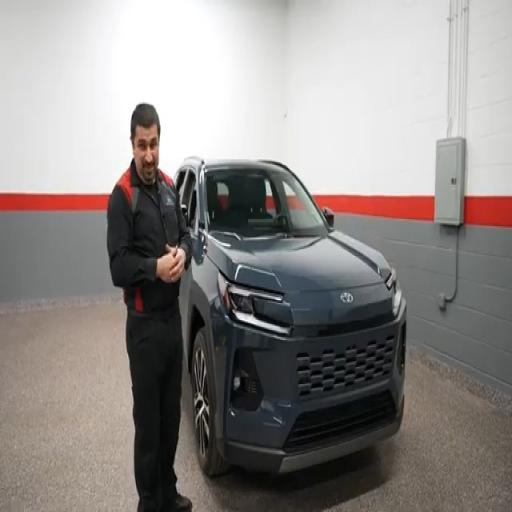bumper: (213, 301, 406, 473), (224, 399, 404, 473)
door: (180, 168, 197, 338)
emblem: (340, 292, 353, 302)
fog_light: (233, 376, 241, 391)
grille: (284, 392, 396, 452), (297, 335, 395, 396)
headlight: (218, 274, 291, 335), (386, 269, 402, 317)
hood: (207, 232, 389, 292)
side_mirror: (322, 207, 334, 227), (181, 204, 187, 224)
wheel: (191, 329, 228, 476)
window: (180, 170, 197, 230)
windshield: (205, 168, 327, 237)
